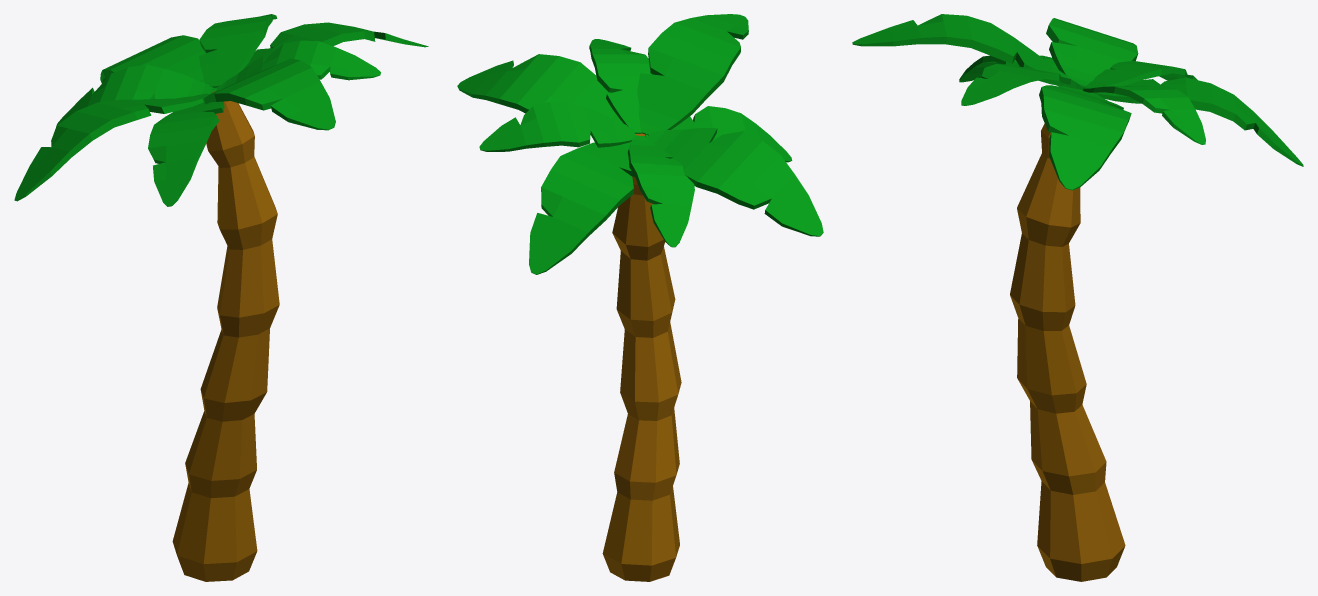
The model's file is Palm.fbx.
The picture shows the model from 3 angles, left to right: view 1: azimuth 30°, elevation 25°; view 2: azimuth 150°, elevation 25°; view 3: azimuth 270°, elevation 25°; orthographic projection. The views are drawn at different scales.
Parts seen in each view (by area): view 1: palm_log, palm_leaf, palm_leaf_3, palm_leaf_4, palm_leaf_6, palm_leaf_5, palm_leaf_7, palm_leaf_2, palm_leaf_1; view 2: palm_log, palm_leaf, palm_leaf_3, palm_leaf_2, palm_leaf_1, palm_leaf_5, palm_leaf_6, palm_leaf_7, palm_leaf_4; view 3: palm_log, palm_leaf_1, palm_leaf_3, palm_leaf, palm_leaf_2, palm_leaf_5, palm_leaf_7, palm_leaf_6, palm_leaf_4.
Part boxes in pixels (<box>): palm_log: <box>172,91,279,581</box>; palm_leaf: <box>14,93,209,201</box>; palm_leaf_3: <box>203,58,335,130</box>; palm_leaf_4: <box>148,93,224,206</box>; palm_leaf_6: <box>56,64,213,125</box>; palm_leaf_5: <box>199,14,277,87</box>; palm_leaf_7: <box>216,40,380,90</box>; palm_leaf_2: <box>100,35,216,92</box>; palm_leaf_1: <box>243,22,428,69</box>; palm_log: <box>602,133,681,581</box>; palm_leaf: <box>646,128,823,236</box>; palm_leaf_3: <box>637,14,748,135</box>; palm_leaf_2: <box>529,135,636,274</box>; palm_leaf_1: <box>457,54,623,123</box>; palm_leaf_5: <box>479,101,635,151</box>; palm_leaf_6: <box>627,135,694,247</box>; palm_leaf_7: <box>589,39,652,133</box>; palm_leaf_4: <box>645,106,792,162</box>; palm_log: <box>1010,123,1125,581</box>; palm_leaf_1: <box>1039,85,1131,190</box>; palm_leaf_3: <box>852,14,1069,86</box>; palm_leaf: <box>1046,18,1138,85</box>; palm_leaf_2: <box>1093,77,1303,166</box>; palm_leaf_5: <box>1082,85,1205,144</box>; palm_leaf_7: <box>961,64,1084,105</box>; palm_leaf_6: <box>1082,60,1197,87</box>; palm_leaf_4: <box>959,55,1082,86</box>.
Bounding box in the file's own units: 1322 × 1690 × 1268.
